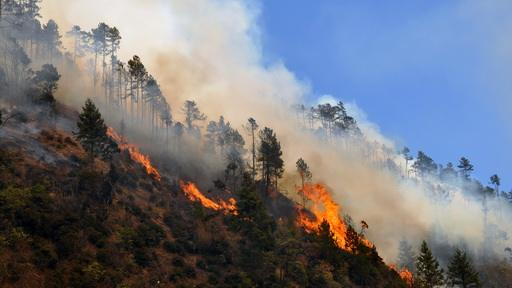fire: (290, 180, 372, 254), (101, 124, 163, 182), (179, 179, 238, 215), (386, 263, 415, 285)
yanwu: (0, 1, 288, 181), (280, 108, 504, 271)
